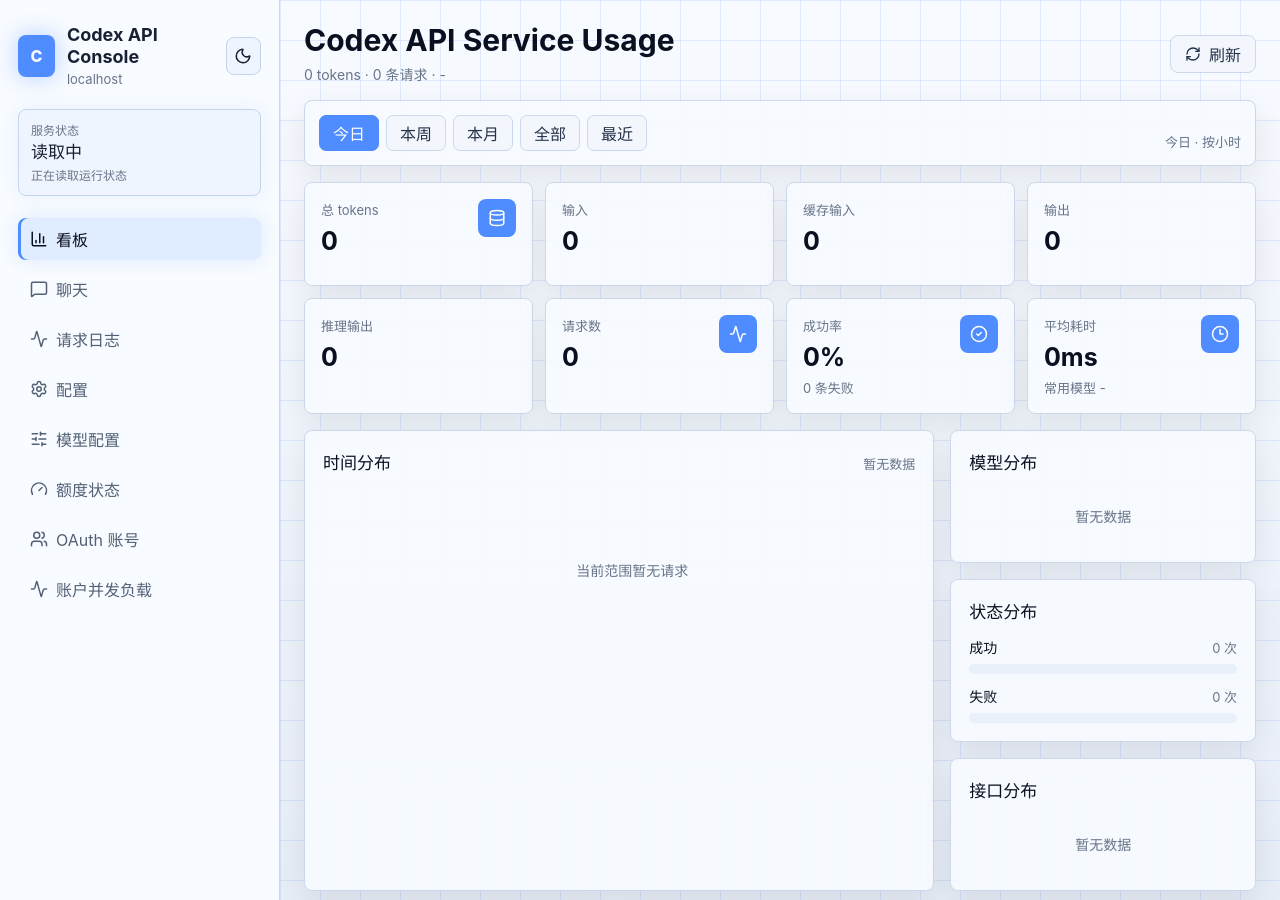
Test case: App theme mode › toggles between light and dark mode and persists the choice
The width and height of the screenshot is (1280, 900).
点击主题按钮后应切换到深色并写入 localStorage。
Click the button named "切换到深色模式": (243, 56) x1=226 y1=37 x2=261 y2=75
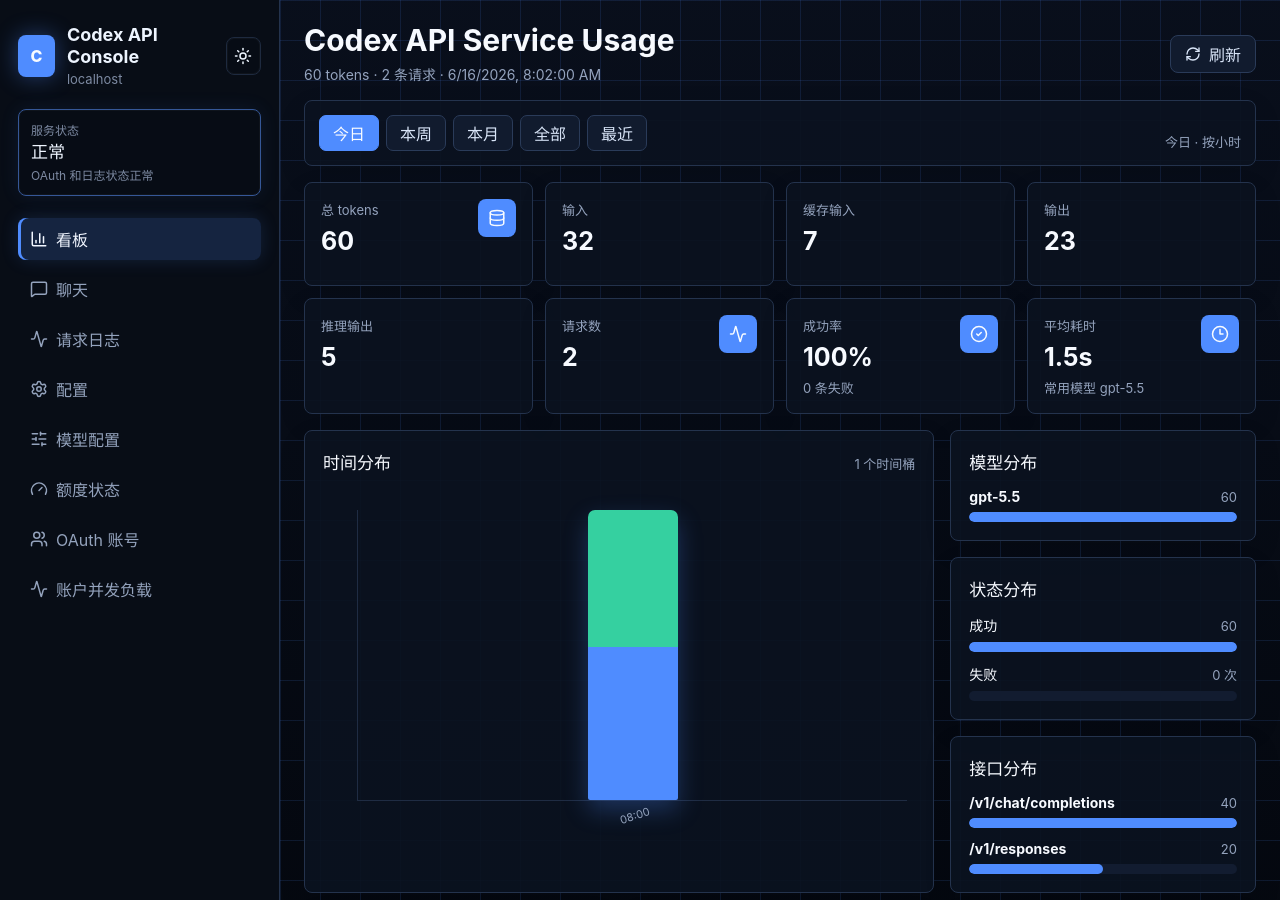
expect the button named "切换到浅色模式" is shown: met, box x1=226 y1=37 x2=261 y2=75
